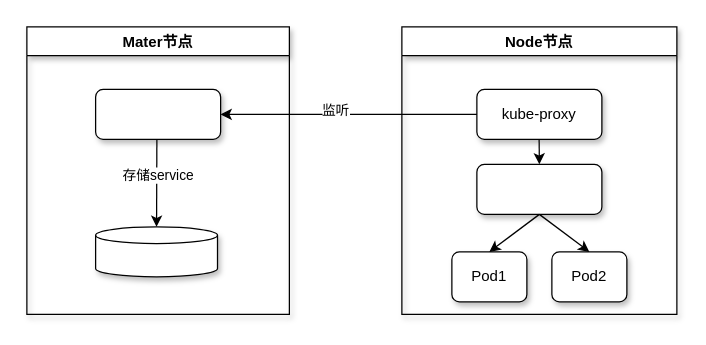
This 706x345 diagram has some shape labels left out. The shapes that lost their labels are listed below. From the top down, each one's centre as x and y in pixels, then its label:
point 158,115: API Service
point 540,190: 访问规则
point 157,253: etcd
